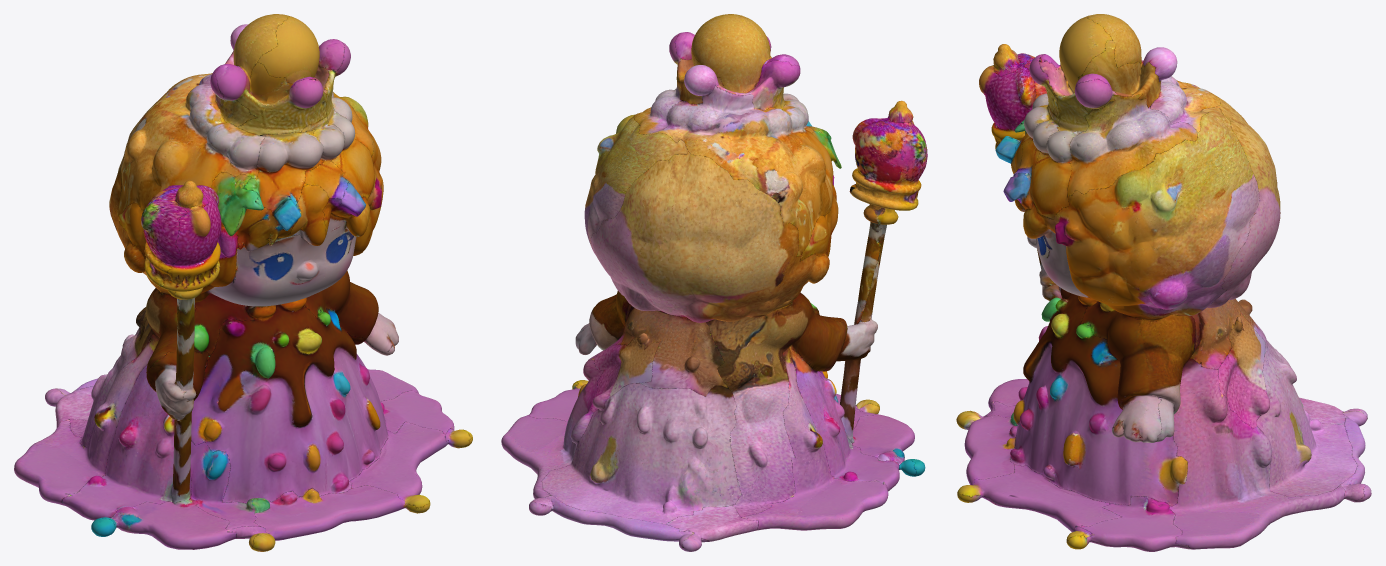
File: texgen_sd_13w.glb
The picture shows the model from 3 angles, left to right: view 1: azimuth 30°, elevation 25°; view 2: azimuth 150°, elevation 25°; view 3: azimuth 270°, elevation 25°; orthographic projection. The views are drawn at different scales.
Visible parts, largest first — view 1: texture_v128_amrb_13w_cfg2_hdr; view 2: texture_v128_amrb_13w_cfg2_hdr; view 3: texture_v128_amrb_13w_cfg2_hdr.
Part boxes in pixels (box(x1,y1,x2,y2)): texture_v128_amrb_13w_cfg2_hdr: box(14, 14, 472, 551); texture_v128_amrb_13w_cfg2_hdr: box(501, 14, 927, 551); texture_v128_amrb_13w_cfg2_hdr: box(956, 14, 1371, 551).
Size of the model in its own units: 1.77 by 2 by 1.68.
Materials: 1 (1 with a texture image).
